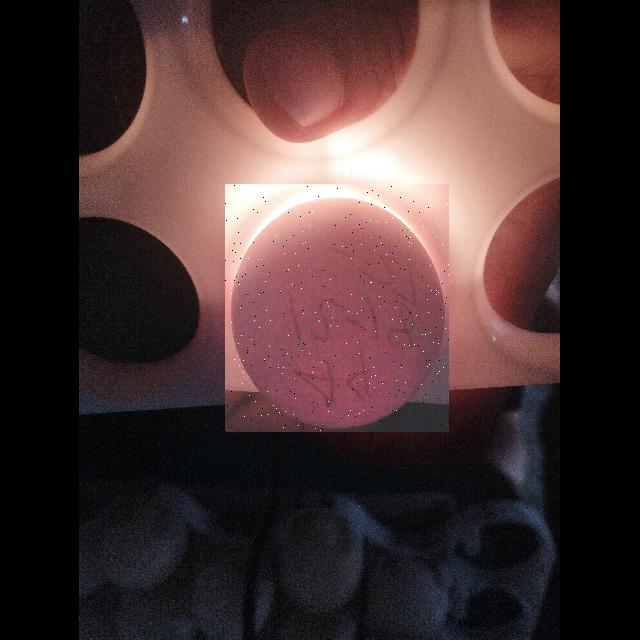Infertile: (225, 184, 449, 432)
